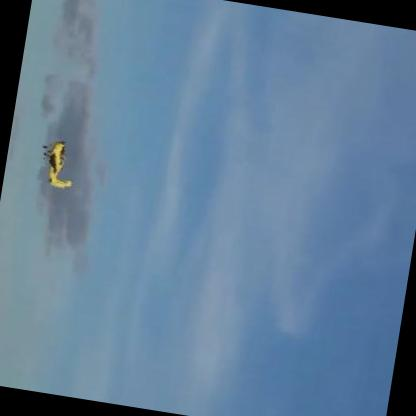plane: (36, 136, 79, 191)
